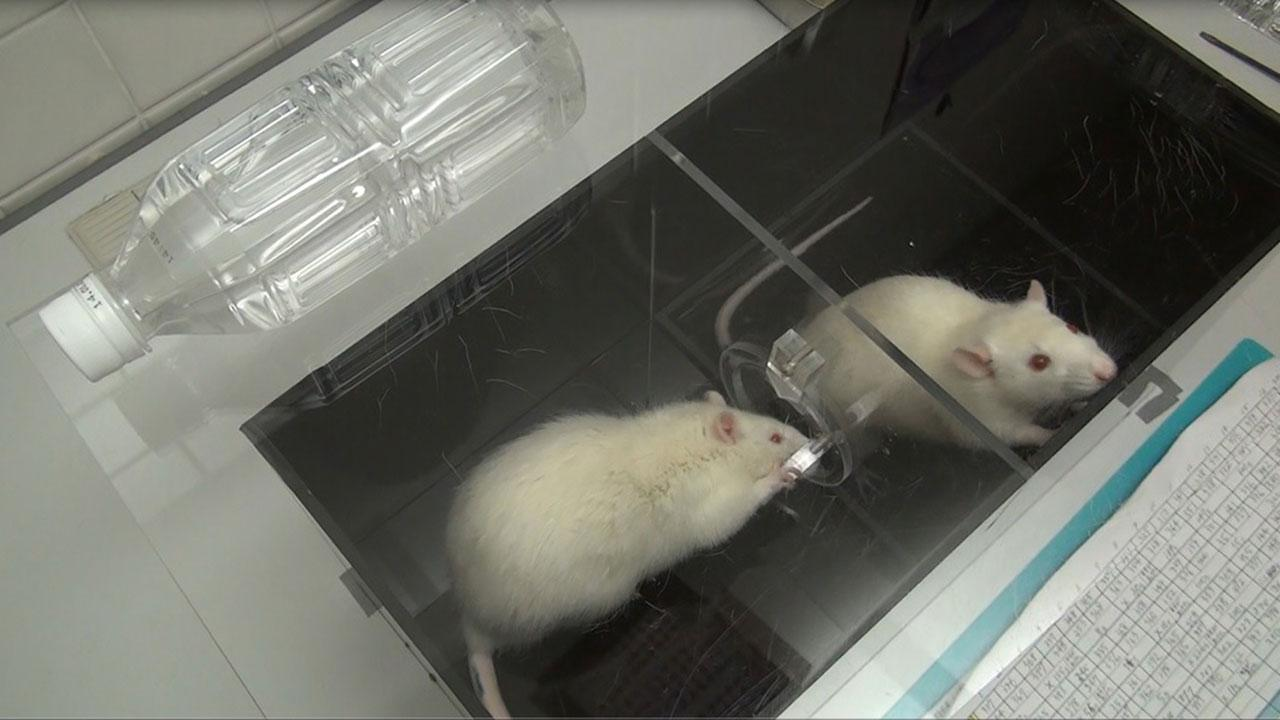mouse: (407, 368, 821, 645), (808, 217, 1114, 450)
